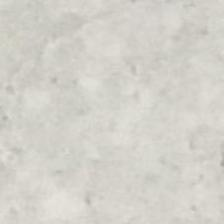Non_Crack: (6, 8, 213, 190)
